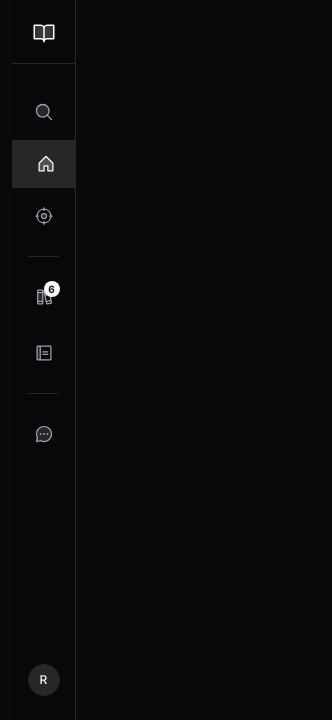
Test case: app navigation › opens the Library submenu from the expanded desktop sidebar
The width and height of the screenshot is (332, 720).
Step 1. Hover over the element showing "6 R" → (44, 360), box [12,0,76,719]
Wait 300 ms
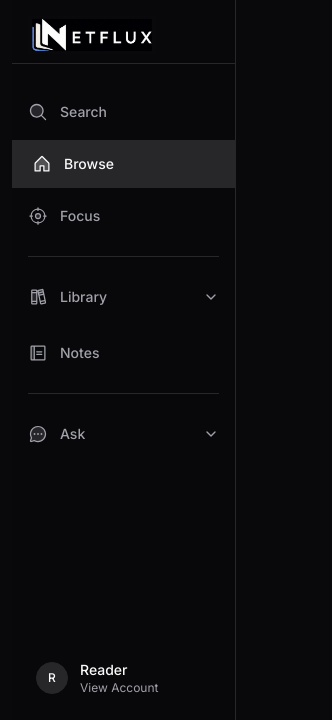
Step 2. Click the button "Library" → (124, 297), box [12,273,235,321]
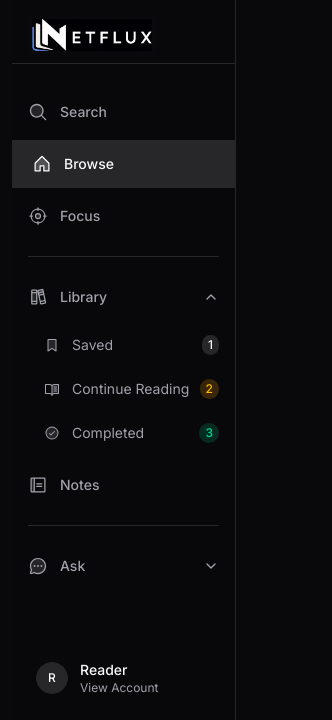
Check: the button "Library" is expanded, box [12,273,235,321]
